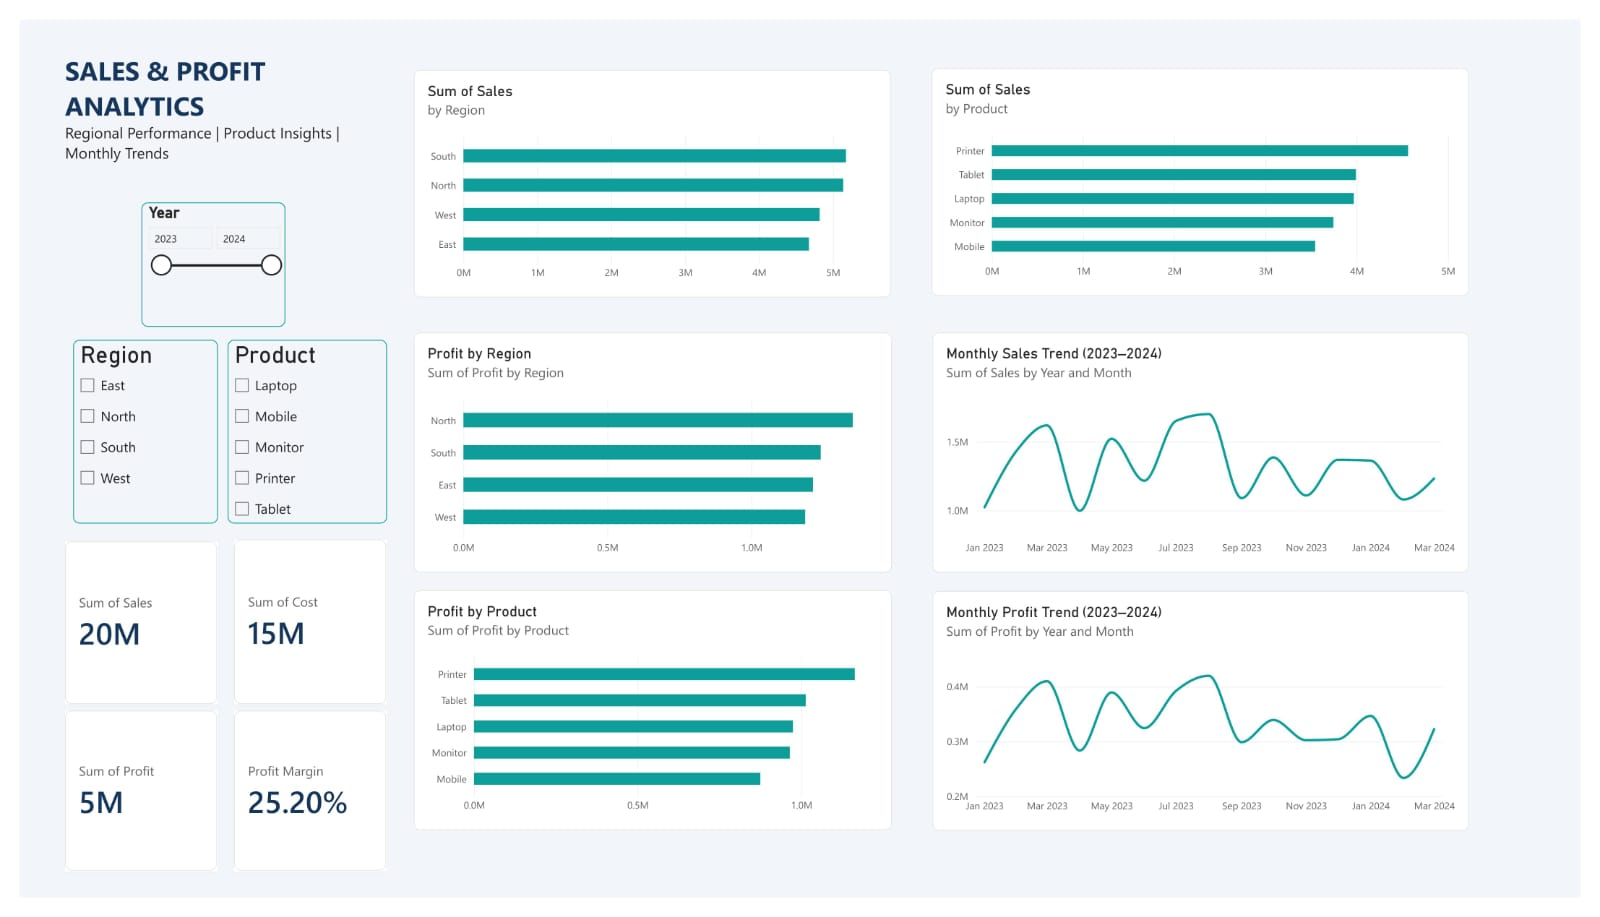

Layout of this report page (visuals, bound fields, positions):
{"tool":"powerbi","page":{"name":"Page 1","canvas":[1920,1080],"ordinal":0},"visuals":[{"type":"cardVisual","fields":{"Data":["Sum(sales_analytics sales_data.Sales)"]},"box":[56,642,187.5,200],"z":0},{"type":"cardVisual","fields":{"Data":["Sum(sales_analytics sales_data.Profit)"]},"box":[56,850,187.8,197.8],"z":1000},{"type":"cardVisual","fields":{"Data":["Sum(sales_analytics sales_data.Cost)"]},"box":[264,640,187.8,202.2],"z":2000},{"type":"cardVisual","fields":{"Data":["sales_analytics sales_data.Profit Margin"]},"box":[264,850,187.8,197.8],"z":3000},{"type":"clusteredBarChart","fields":{"Category":["sales_analytics sales_data.Region"],"Y":["Sum(sales_analytics sales_data.Sales)"]},"box":[485,61.5,587.5,280],"z":4000},{"type":"clusteredBarChart","fields":{"Category":["sales_analytics sales_data.Product"],"Y":["Sum(sales_analytics sales_data.Sales)"]},"box":[1122,59.7,660.5,280.5],"z":5000},{"type":"lineChart","title":"Monthly Sales Trend (2023–2024)","fields":{"Category":["sales_analytics sales_data.Order_Date.Variation.Date Hierarchy.Year","sales_analytics sales_data.Order_Date.Variation.Date Hierarchy.Month"],"Y":["Sum(sales_analytics sales_data.Sales)"]},"box":[1122.5,385,660,295],"z":6000},{"type":"slicer","fields":{"Values":["sales_analytics sales_data.Year"]},"box":[150,225,177,153],"z":7000},{"type":"slicer","fields":{"Values":["sales_analytics sales_data.Region"]},"box":[66,394,178,226],"z":8000},{"type":"slicer","fields":{"Values":["sales_analytics sales_data.Product"]},"box":[256,394,196,226],"z":9000},{"type":"clusteredBarChart","title":"Profit by Region","fields":{"Category":["sales_analytics sales_data.Region"],"Y":["Sum(sales_analytics sales_data.Profit)"]},"box":[485,385.5,588.1,295],"z":10000},{"type":"clusteredBarChart","title":"Profit by Product","fields":{"Category":["sales_analytics sales_data.Product"],"Y":["Sum(sales_analytics sales_data.Profit)"]},"box":[485,702.1,588.1,295],"z":11000},{"type":"lineChart","title":"Monthly Profit Trend (2023–2024)","fields":{"Category":["sales_analytics sales_data.Order_Date.Variation.Date Hierarchy.Year","sales_analytics sales_data.Order_Date.Variation.Date Hierarchy.Month"],"Y":["Sum(sales_analytics sales_data.Profit)"]},"box":[1122.5,702.5,660,295],"z":12000},{"type":"textbox","box":[38,864,188,150],"z":13000},{"type":"textbox","box":[56,40,380,162],"z":14000}]}

Visuals, with their boxes in screenshot pixels (x1, y1, x2, y2), scaled from the page's 1920x1080 canvas onto the 1600x917 screenshot:
cardVisual - Sum(sales_analytics sales_data.Sales): [47, 545, 203, 715]
cardVisual - Sum(sales_analytics sales_data.Profit): [47, 722, 203, 890]
cardVisual - Sum(sales_analytics sales_data.Cost): [220, 543, 376, 715]
cardVisual - sales_analytics sales_data.Profit Margin: [220, 722, 376, 890]
clusteredBarChart - sales_analytics sales_data.Region x Sum(sales_analytics sales_data.Sales): [404, 52, 894, 290]
clusteredBarChart - sales_analytics sales_data.Product x Sum(sales_analytics sales_data.Sales): [935, 51, 1485, 289]
"Monthly Sales Trend (2023–2024)" lineChart: [935, 327, 1485, 577]
slicer - sales_analytics sales_data.Year: [125, 191, 272, 321]
slicer - sales_analytics sales_data.Region: [55, 335, 203, 526]
slicer - sales_analytics sales_data.Product: [213, 335, 377, 526]
"Profit by Region" clusteredBarChart: [404, 327, 894, 578]
"Profit by Product" clusteredBarChart: [404, 596, 894, 847]
"Monthly Profit Trend (2023–2024)" lineChart: [935, 596, 1485, 847]
textbox: [32, 734, 188, 861]
textbox: [47, 34, 363, 172]
